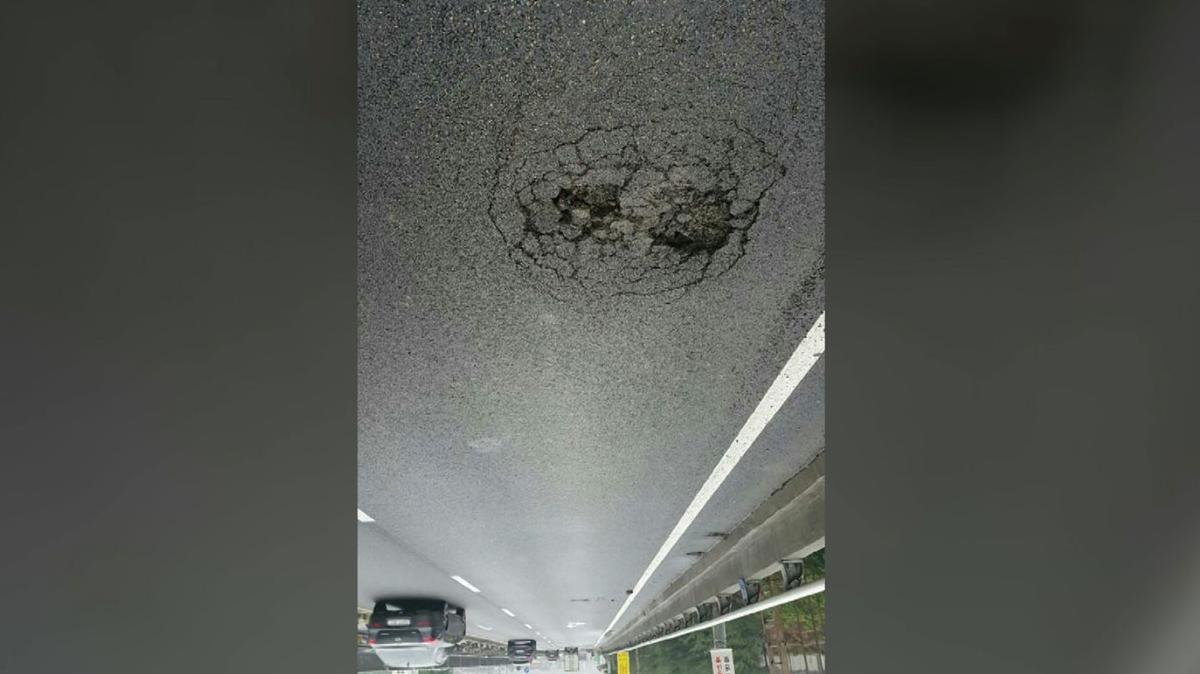pothole: (501, 117, 779, 336)
